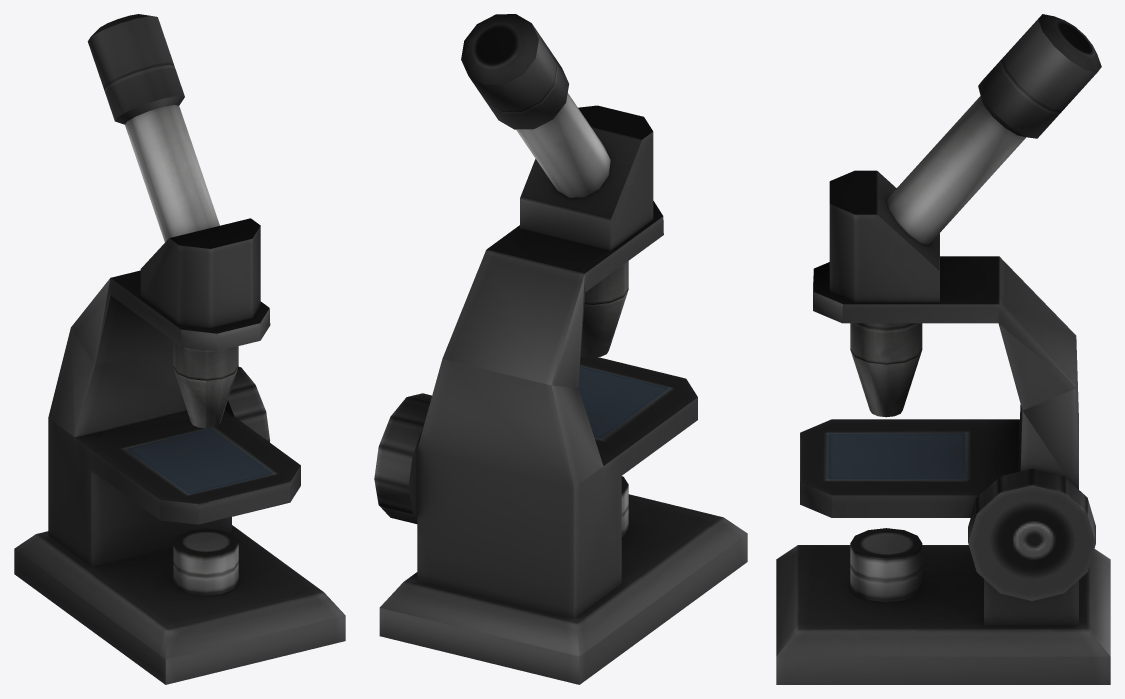
File: microsc.obj
3 renders of one model, left to right at view 1: azimuth 30°, elevation 25°; view 2: azimuth 150°, elevation 25°; view 3: azimuth 270°, elevation 25°, orthographic. The views are drawn at different scales.
Visible parts, largest first — view 1: cube92_cube92_auv; view 2: cube92_cube92_auv; view 3: cube92_cube92_auv.
Part boxes in pixels (<box>): cube92_cube92_auv: <box>14,14,345,684</box>; cube92_cube92_auv: <box>374,14,747,684</box>; cube92_cube92_auv: <box>776,14,1110,684</box>.
Bounding box in the file's own units: 3 × 8.37 × 4.11.
Materials: 1 (1 with a texture image).
